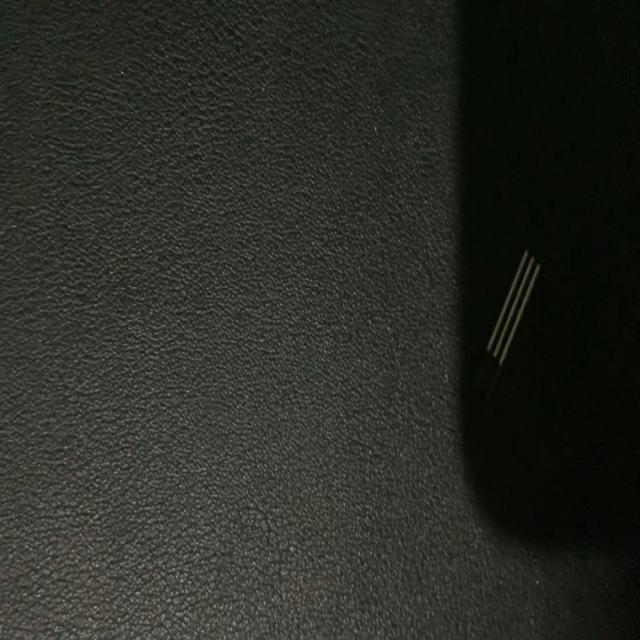BJT: (465, 240, 544, 420)
